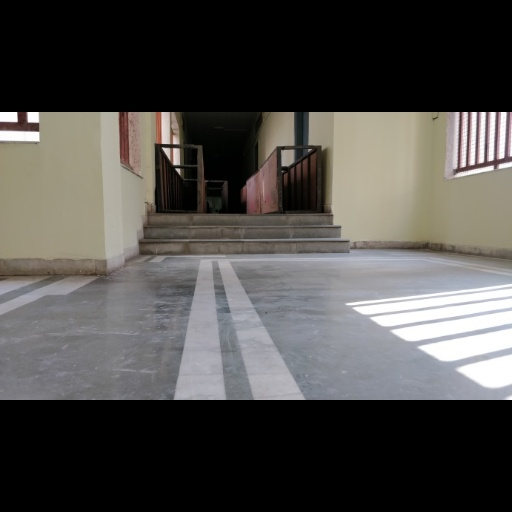Stairs: (139, 213, 350, 254)
